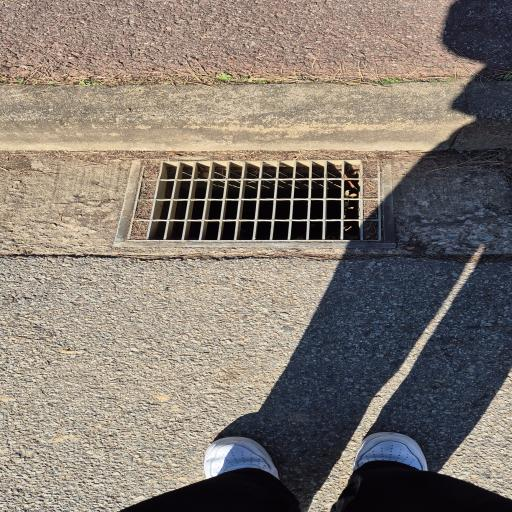drain: (123, 159, 391, 245)
